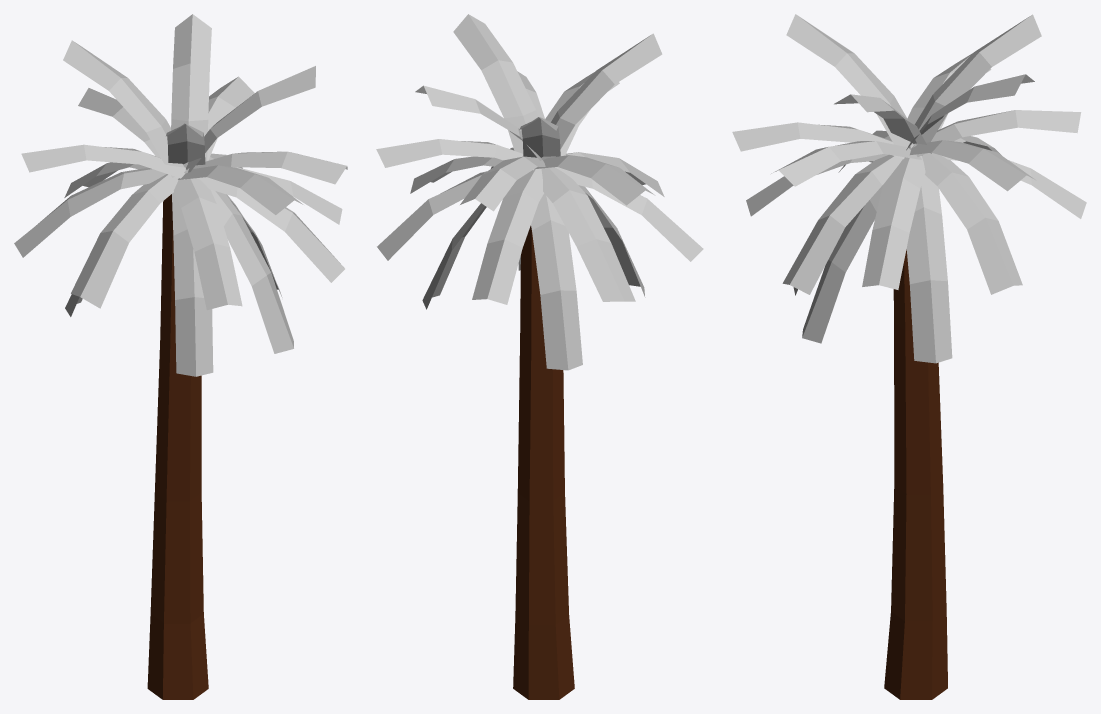
The model's file is PalmTree3Snow.fbx.
3 views of the same model, side by side, from view 1: azimuth 30°, elevation 25°; view 2: azimuth 150°, elevation 25°; view 3: azimuth 270°, elevation 25° (orthographic). The views are drawn at different scales.
Visible parts, largest first — view 1: Cylinder; view 2: Cylinder; view 3: Cylinder.
Boxes of the visible parts, <box> form: Cylinder: <box>14,14,347,699</box>; Cylinder: <box>376,14,703,699</box>; Cylinder: <box>732,14,1086,699</box>.
Bounding box in the file's own units: 4.44 × 9.51 × 4.72.
